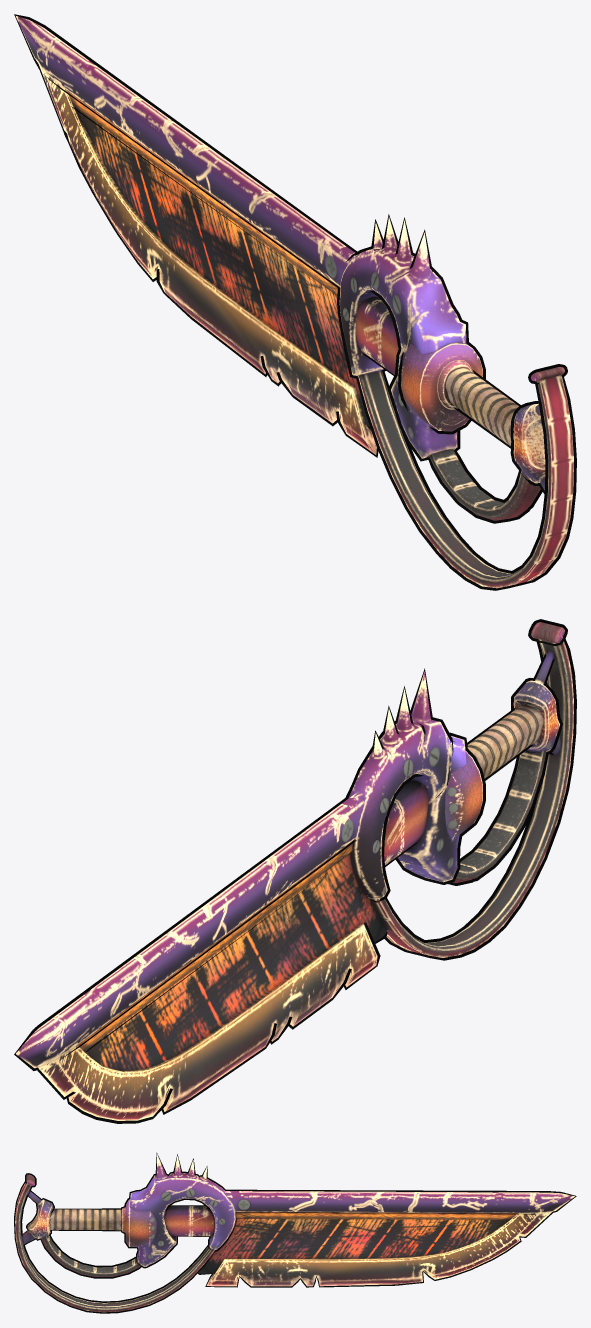
The picture shows the model from 3 angles, top to bottom: view 1: azimuth 30°, elevation 25°; view 2: azimuth 150°, elevation 25°; view 3: azimuth 270°, elevation 25°; orthographic projection. The views are drawn at different scales.
Visible parts, largest first — view 1: knife_low.002, knife_low.003; view 2: knife_low.002, knife_low.003; view 3: knife_low.002, knife_low.003.
Boxes of the visible parts, x1,y1,x2,y2 form: knife_low.002: [16, 16, 573, 588]; knife_low.003: [14, 14, 576, 590]; knife_low.002: [16, 622, 573, 1120]; knife_low.003: [14, 619, 576, 1123]; knife_low.002: [15, 1154, 574, 1312]; knife_low.003: [14, 1152, 576, 1313].
Size of the model in its own units: 70.77 by 310 by 999.
Materials: 2 (1 with a texture image).
